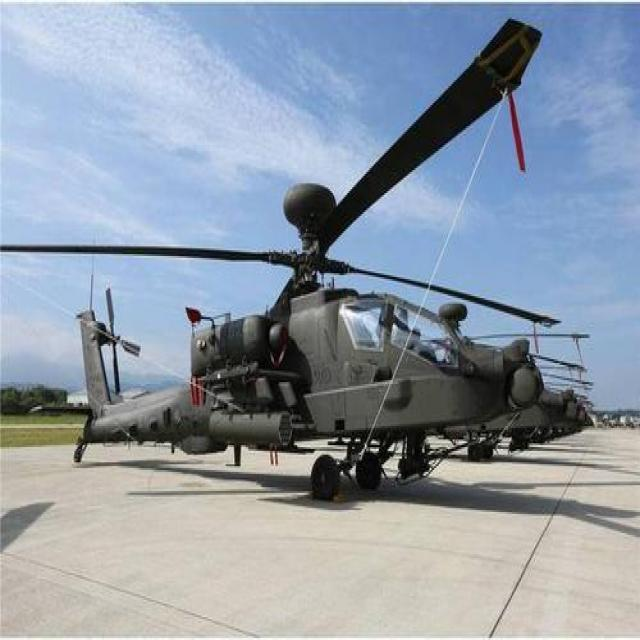MIL_HELO: (1, 16, 570, 493)
